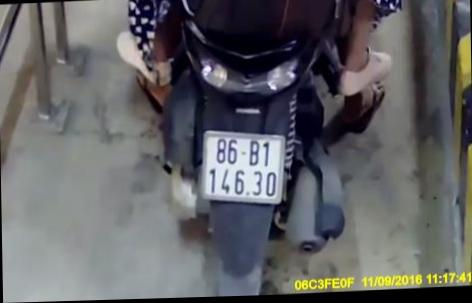LP: (197, 124, 286, 211)
